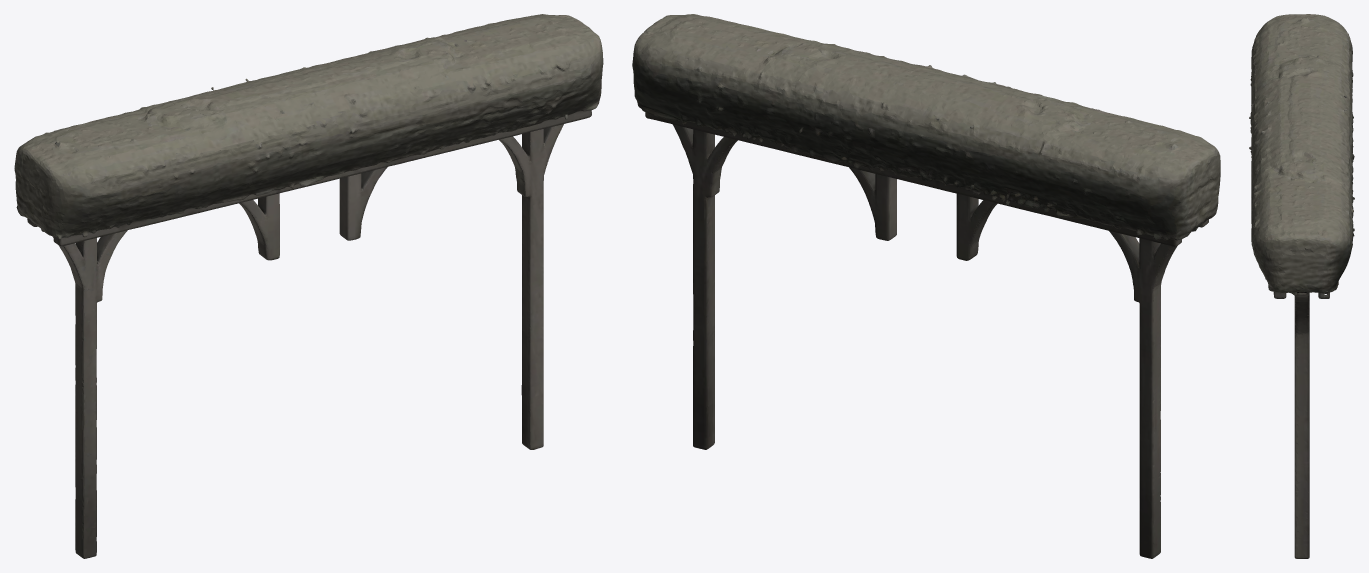
File: char_bush_01.glb
3 renders of one model, left to right at view 1: azimuth 30°, elevation 25°; view 2: azimuth 150°, elevation 25°; view 3: azimuth 270°, elevation 25°, orthographic. The views are drawn at different scales.
Visible parts, largest first — view 1: geometry_0; view 2: geometry_0; view 3: geometry_0.
Boxes of the visible parts, <box> form: geometry_0: <box>14,14,603,558</box>; geometry_0: <box>632,14,1220,558</box>; geometry_0: <box>1249,14,1354,558</box>.
Size of the model in its own units: 1 by 0.7275 by 0.1985.
1 material, 1 textured.
